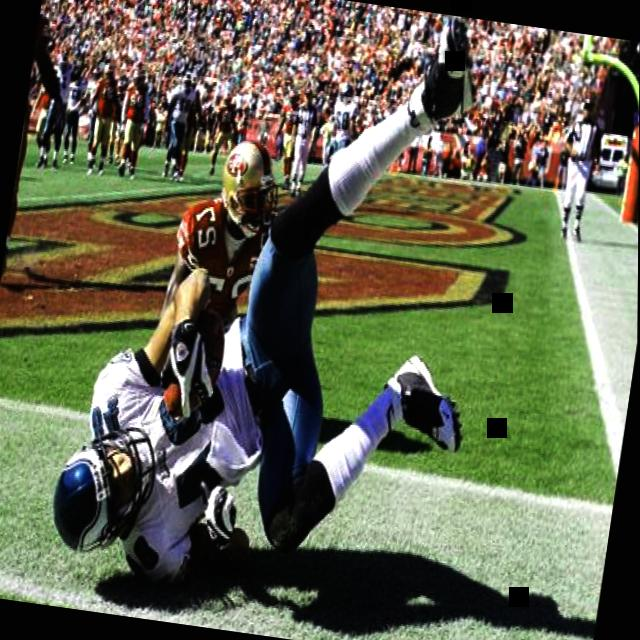Fall-Detected: (95, 0, 533, 637)
